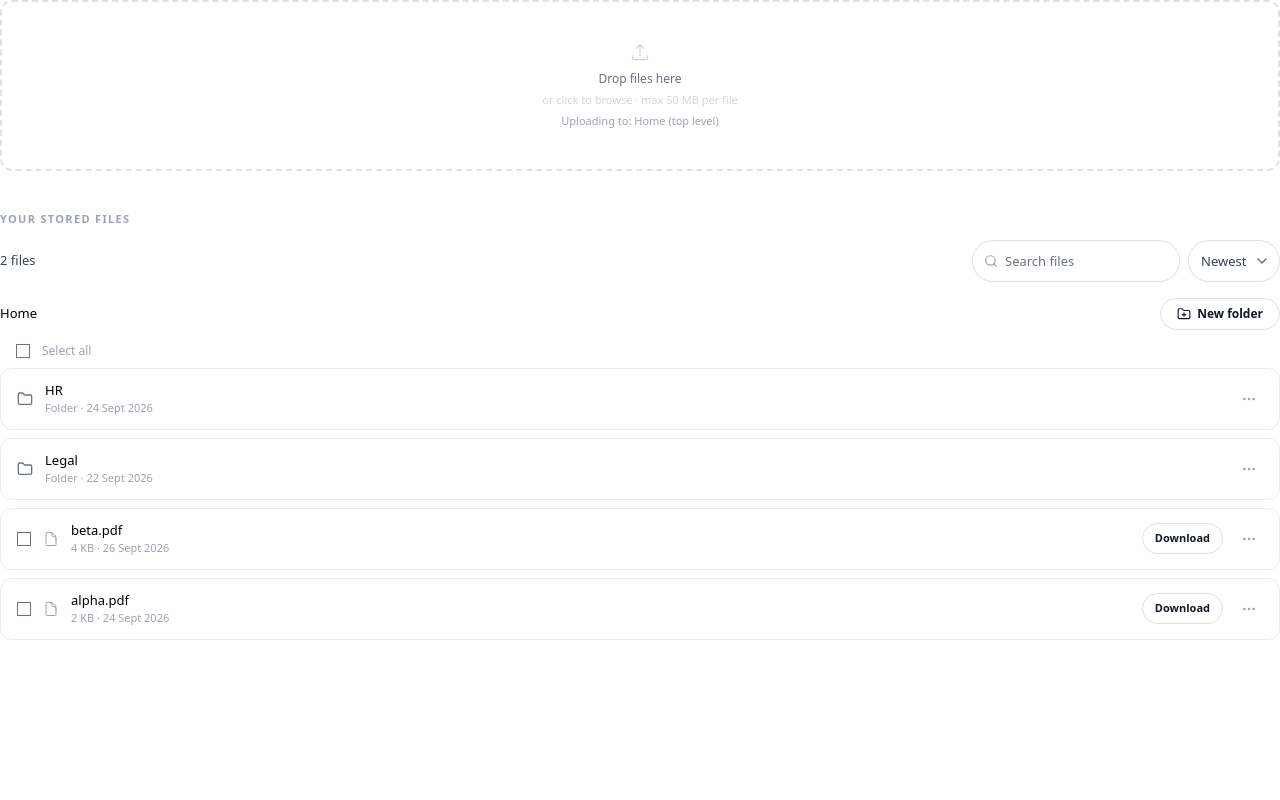
Test case: FileBrowser › a slow response for a folder you have left cannot overwrite the one you are viewing
Click the button with aria-label "Open folder Legal": [61, 460] box [45,450,1223,486]
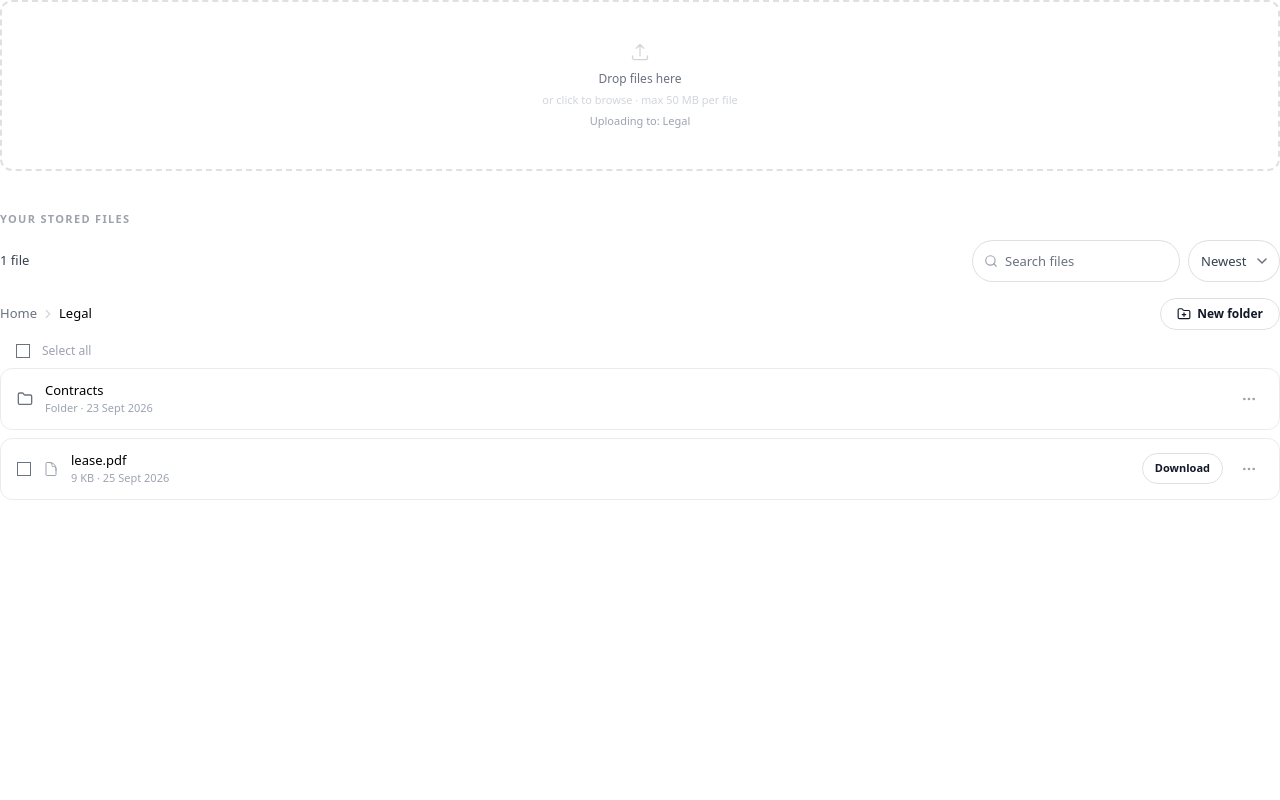
Check: the text "lease.pdf" is shown, box [71,450,126,468]
Click the button "New folder": [1220, 314] box [1160,298,1279,330]
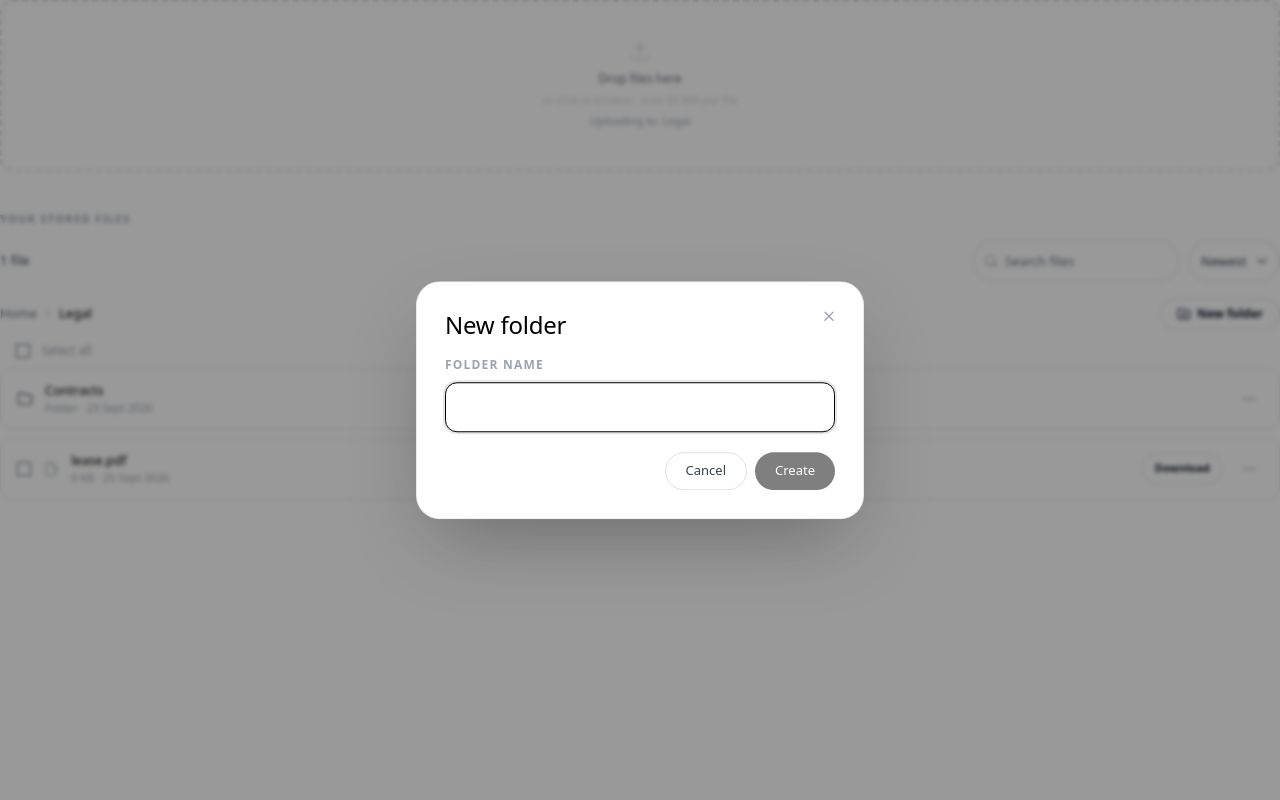
In the field labelled "Folder name": [640, 407] box [445,382,835,432], type "Slow"
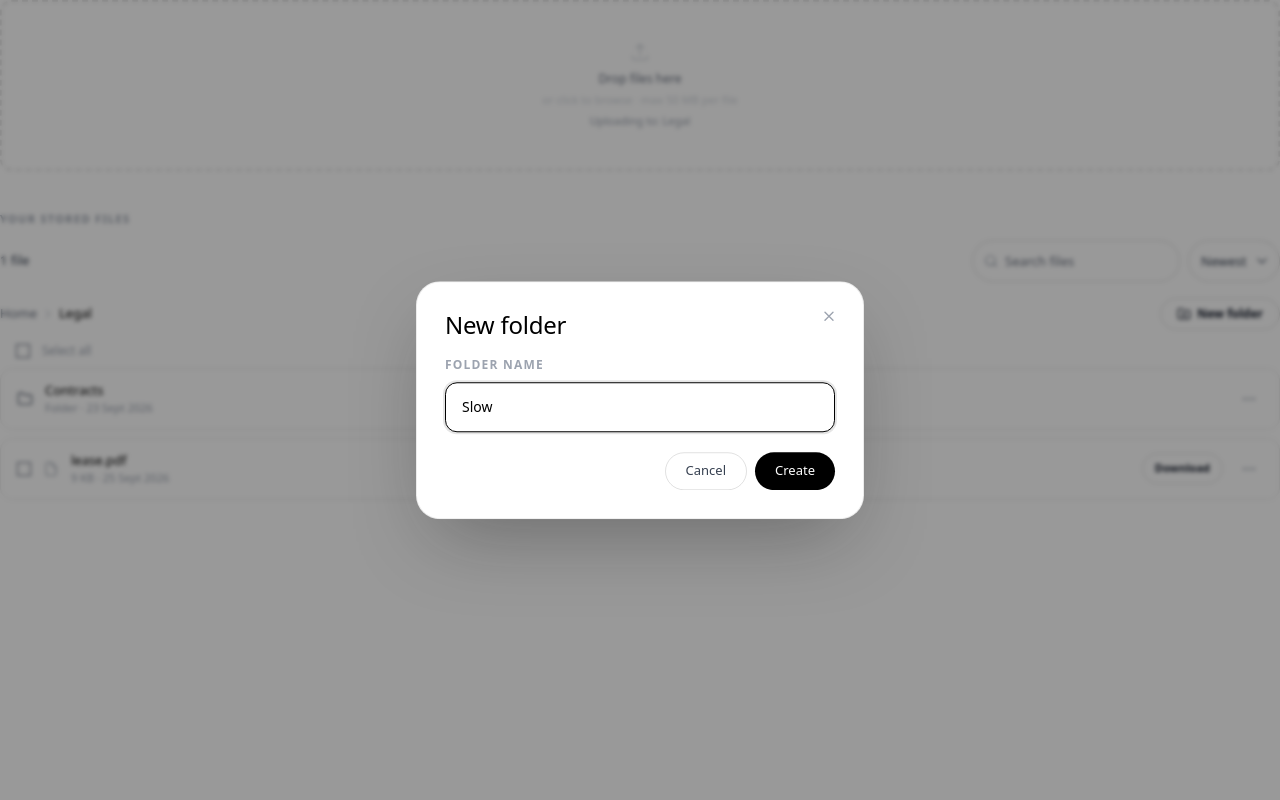
Click the button "Create": [795, 471] box [755,452,835,490]
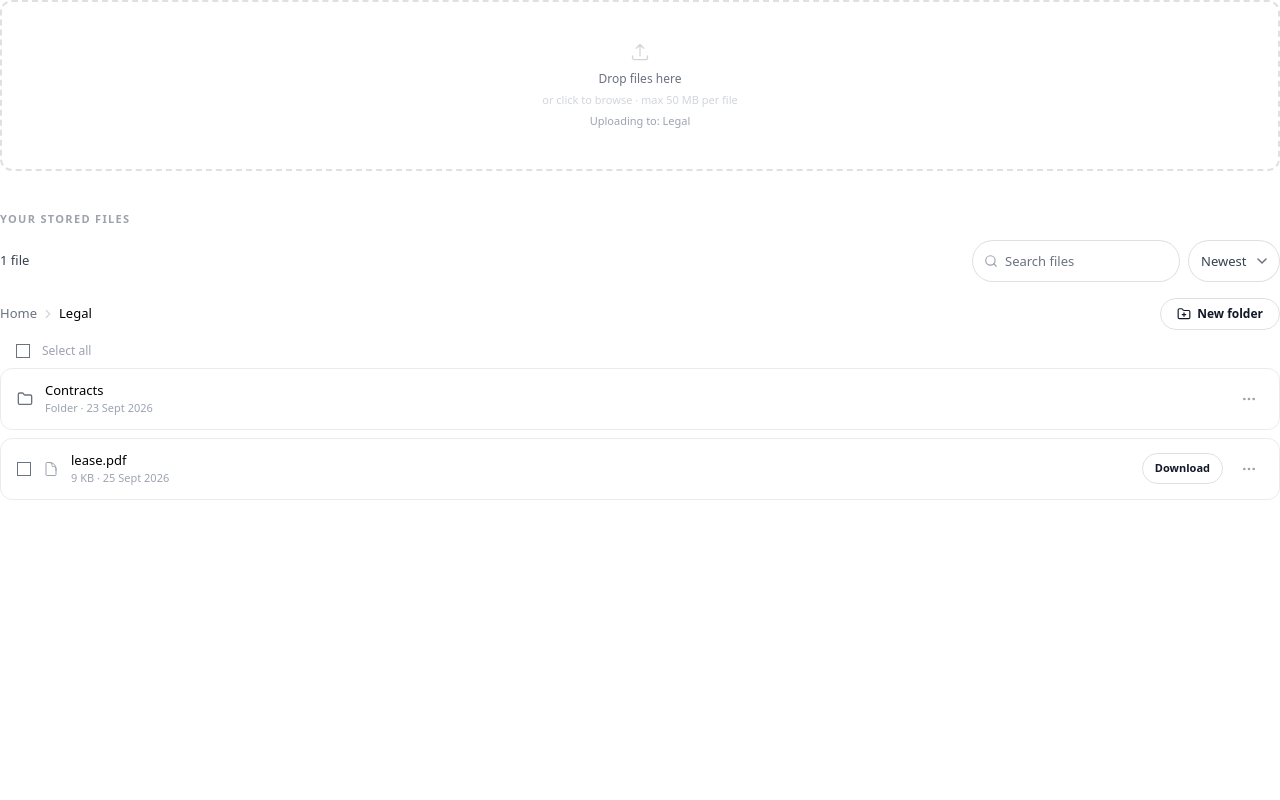
Check: the dialog is gone
// Meanwhile the user goes back Home, which loads straight away.
Click the button "Home": [18, 314] box [0,304,37,323]
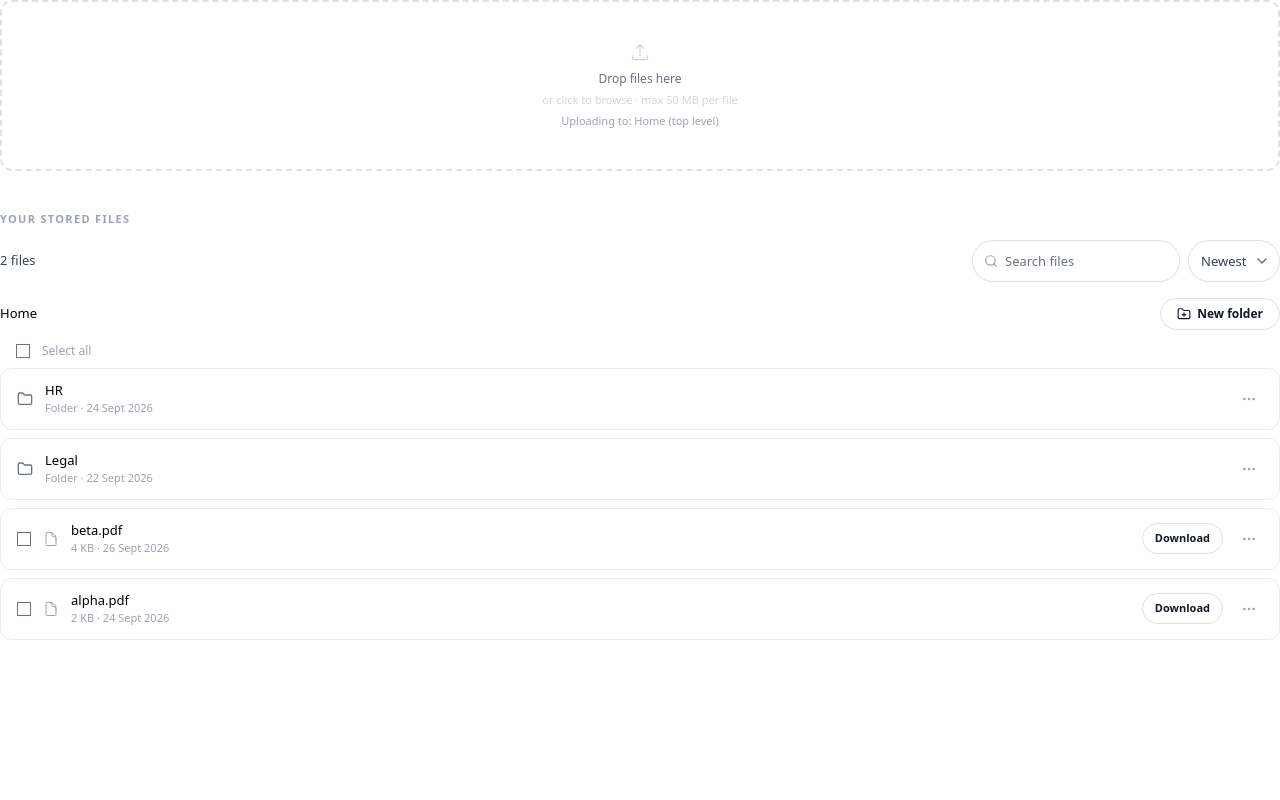
Check: the text "alpha.pdf" is shown, box [71,590,129,608]
Check: the text "lease.pdf" is gone
